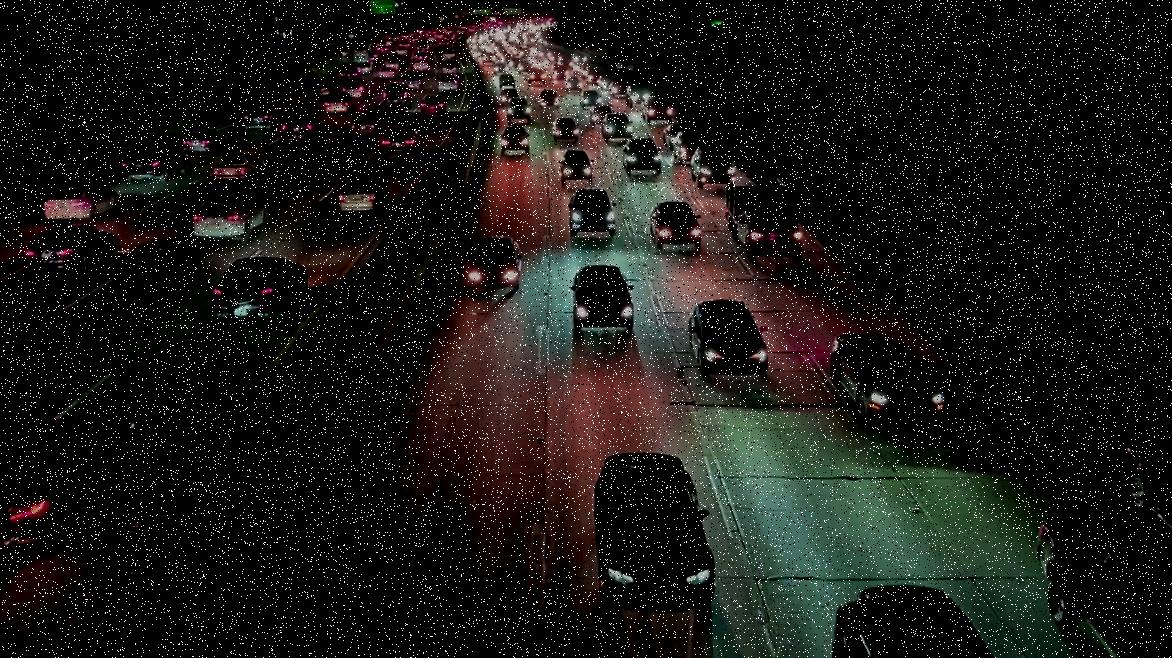car: (585, 451, 722, 627), (1035, 507, 1172, 658), (0, 405, 141, 548), (829, 577, 1010, 658), (825, 330, 950, 425), (315, 593, 480, 658), (685, 297, 771, 379), (211, 253, 311, 320), (23, 221, 118, 275), (567, 264, 637, 336), (1116, 435, 1172, 511), (192, 196, 273, 246), (464, 234, 523, 294), (43, 182, 122, 224), (563, 188, 619, 239), (649, 200, 702, 249), (122, 145, 189, 182), (337, 174, 393, 218), (380, 126, 425, 163), (690, 146, 728, 189), (213, 152, 266, 182), (620, 137, 662, 174), (181, 127, 230, 155), (557, 150, 595, 185), (281, 112, 326, 141), (672, 131, 709, 163), (241, 105, 281, 134), (498, 123, 532, 156), (639, 96, 677, 124), (600, 113, 633, 141), (350, 113, 382, 138), (661, 123, 693, 147), (322, 92, 354, 115), (418, 94, 447, 119), (382, 82, 412, 106), (549, 117, 579, 141), (587, 104, 614, 128), (341, 79, 371, 99), (506, 97, 531, 121), (309, 79, 337, 100), (435, 73, 461, 95), (538, 88, 560, 111), (579, 90, 601, 108), (498, 85, 518, 104)
truck: (721, 177, 806, 262)
